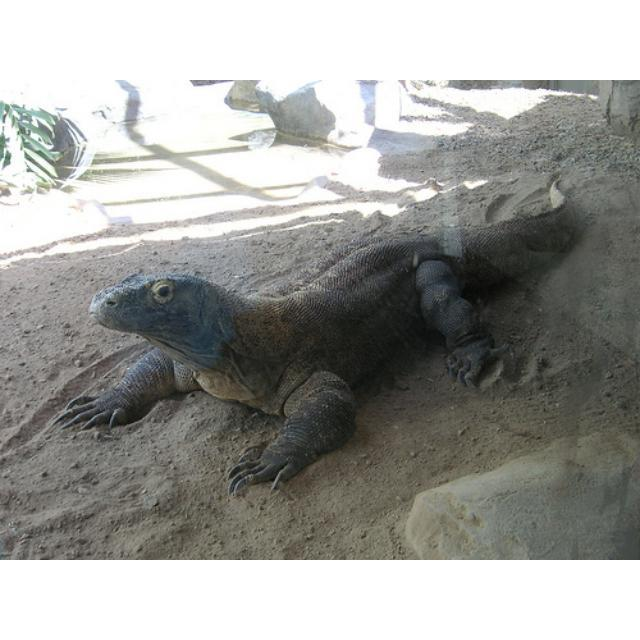KomodoDragon: (48, 170, 579, 497)
